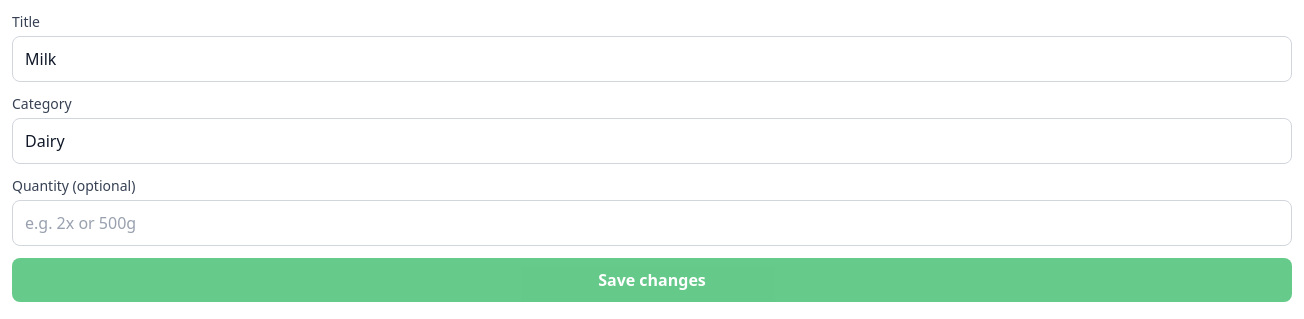
Test case: CategoryCombobox in ItemEditForm (T93) › 6. T92 Saved and re-arm behavior is unchanged
Type " Oat" into the field labelled "Title" at coordinates (652, 59), box 12,36 -> 1292,82
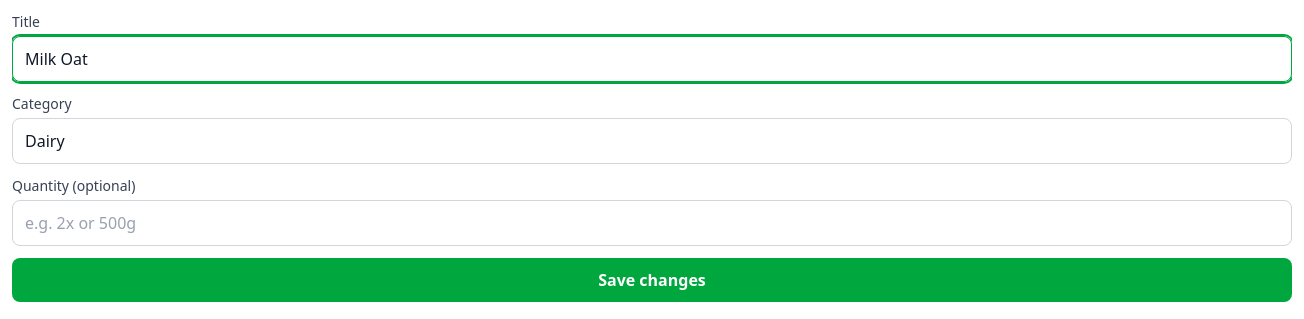
Click the button "Save changes" at coordinates (652, 280), box 12,258 -> 1292,302
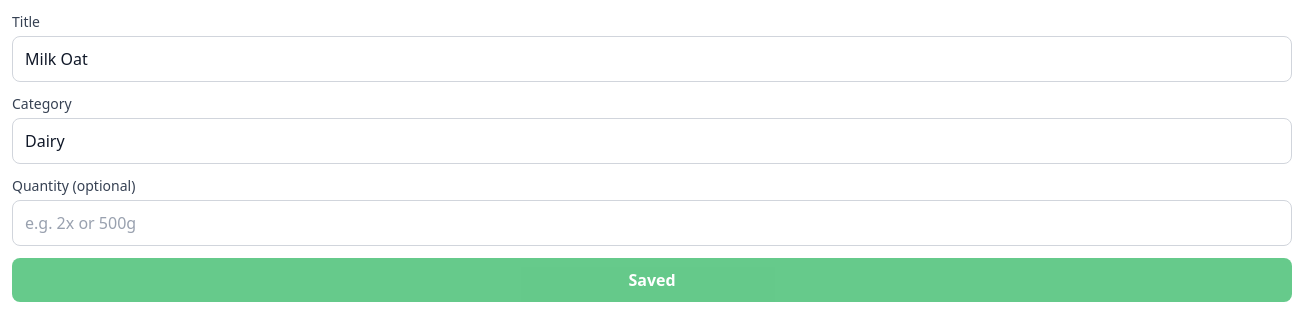
Check: the button "Saved" is disabled, box 12,258 -> 1292,302
Type "2x" into the field labelled "Quantity (optional)" at coordinates (652, 223), box 12,200 -> 1292,246
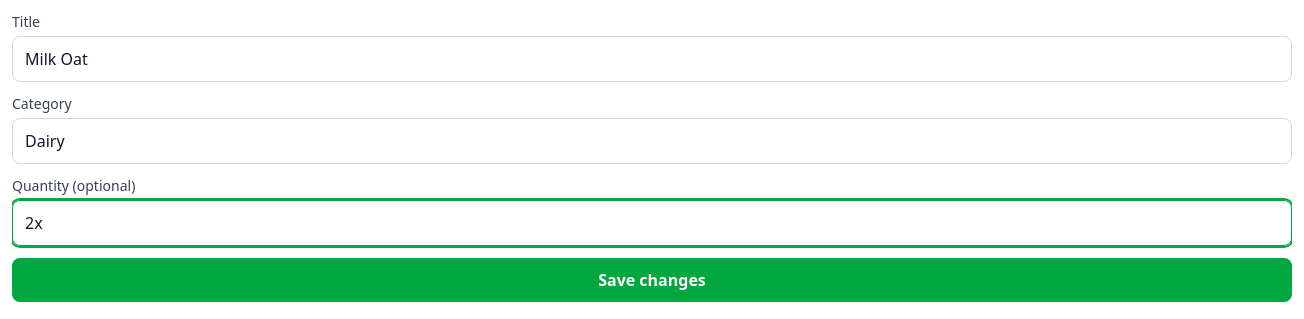
Check: the button "Save changes" is enabled, box 12,258 -> 1292,302
